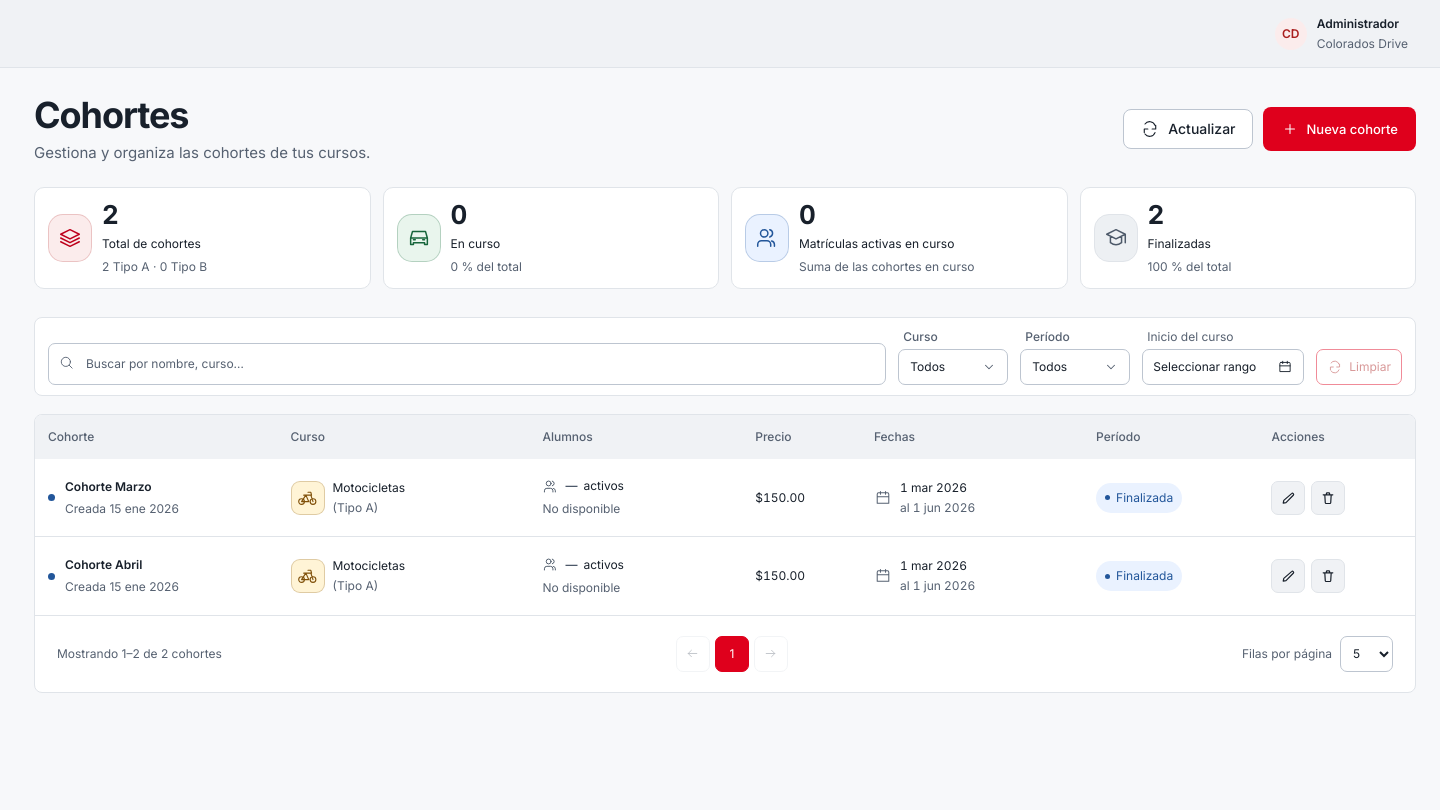
Scenario: CohortsPage › eliminar cohorte › cada fila tiene la acción «Eliminar» y el modal muestra el curso
Expected: the button named "Eliminar Cohorte Abril" is shown, [1312,559,1346,593]
Step 1. Click the button named "Eliminar Cohorte Marzo" → (1328, 498), box [1312,481,1346,515]
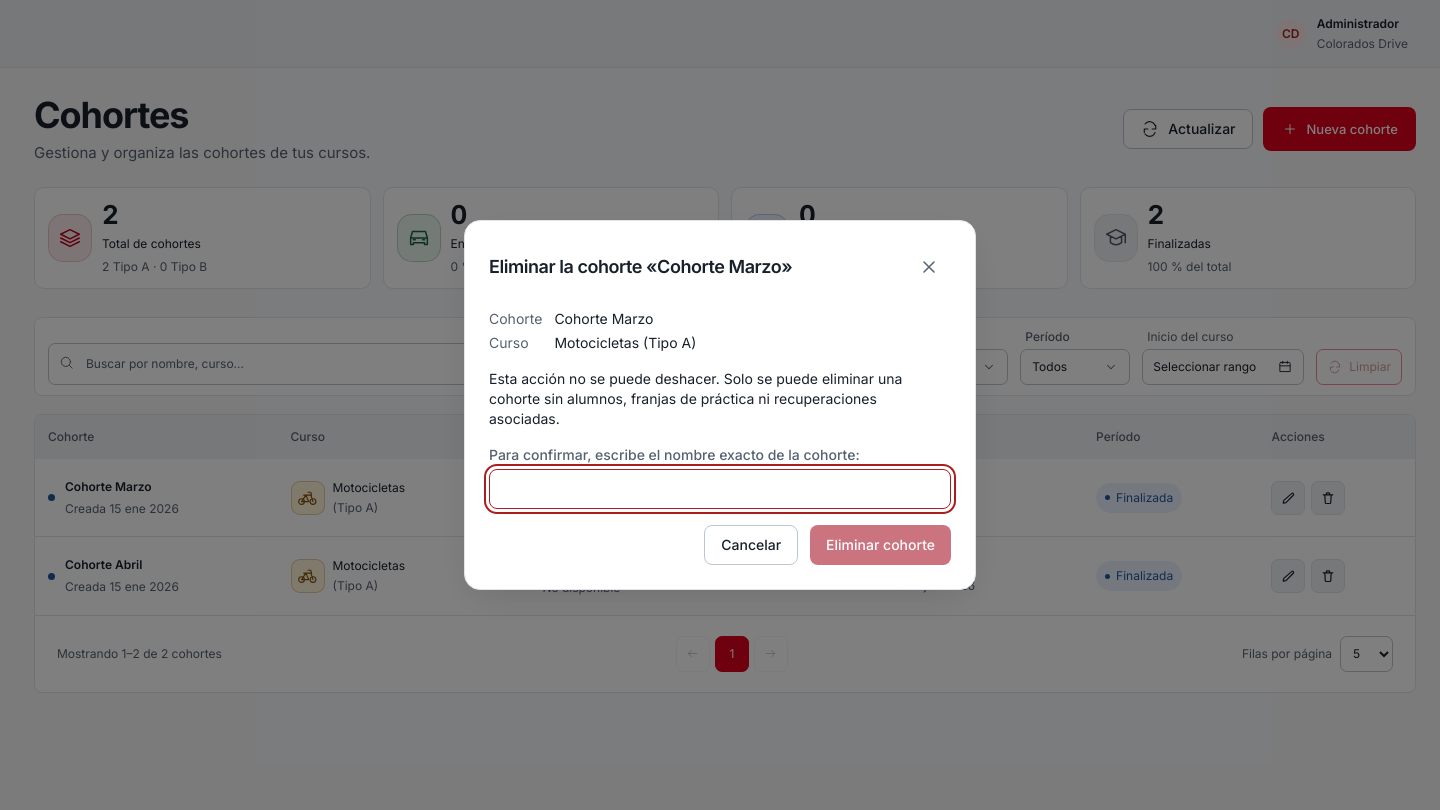
Expected: the dialog shows "Motocicletas (Tipo A)", [554,334,696,351]
